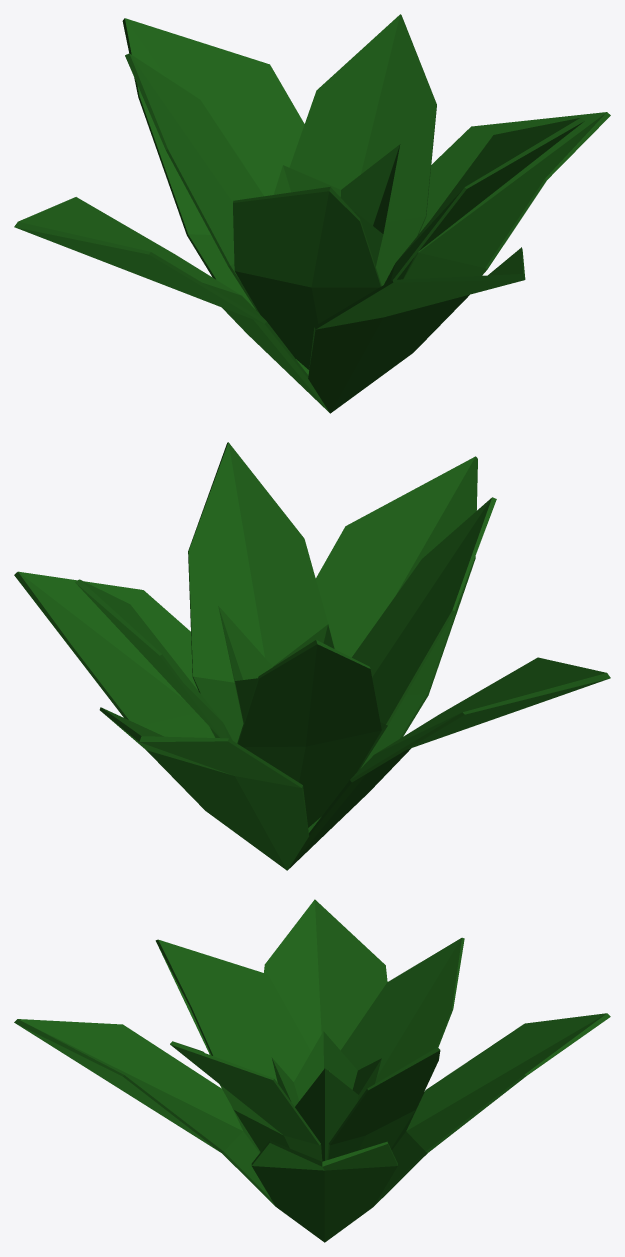
Rendered from Plant 2.1.fbx.
3 renders of one model, top to bottom at view 1: azimuth 30°, elevation 25°; view 2: azimuth 150°, elevation 25°; view 3: azimuth 270°, elevation 25°, orthographic. The views are drawn at different scales.
Parts seen in each view (by area): view 1: Plant 2.1; view 2: Plant 2.1; view 3: Plant 2.1.
Boxes of the visible parts, x1,y1,x2,y2 form: Plant 2.1: (14, 14, 610, 413); Plant 2.1: (14, 442, 610, 870); Plant 2.1: (14, 899, 610, 1242).
Bounding box in the file's own units: 97.95 × 51.12 × 105.
